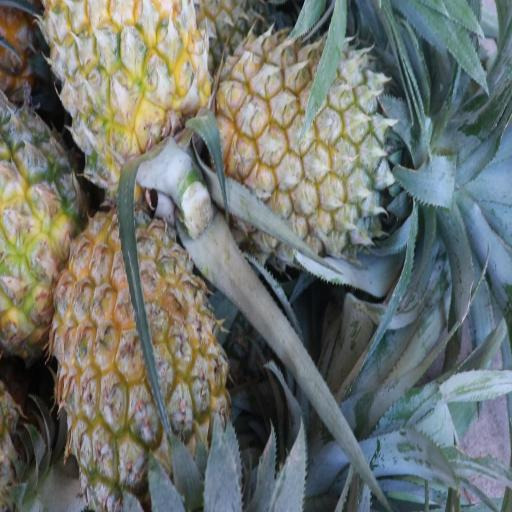------------------------------: (0, 78, 95, 360)
Pineapple - v8 v1: (45, 198, 241, 512), (208, 20, 414, 270), (35, 0, 222, 243)
